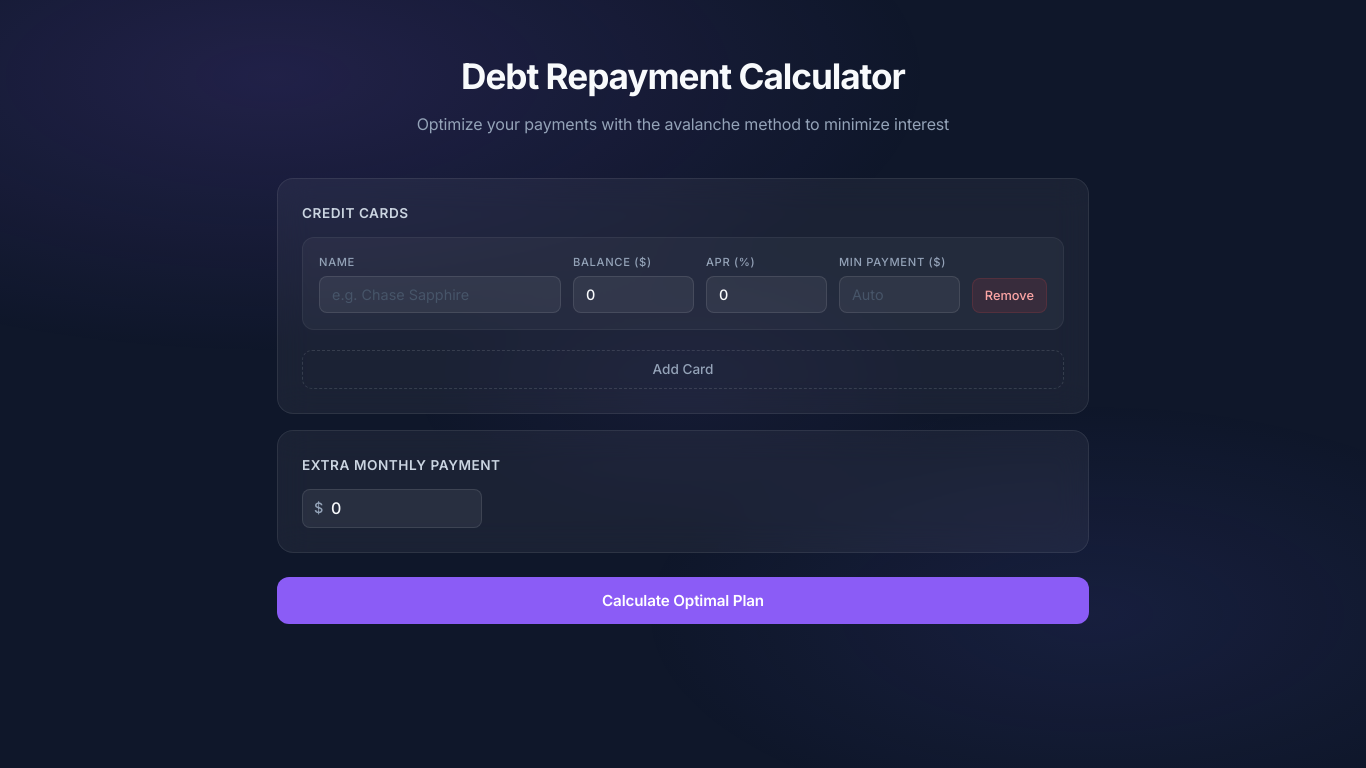
Test: App › shows validation error when no cards have balance
Click the button "Calculate Optimal Plan" at coordinates (683, 601), box [277,577,1089,624]
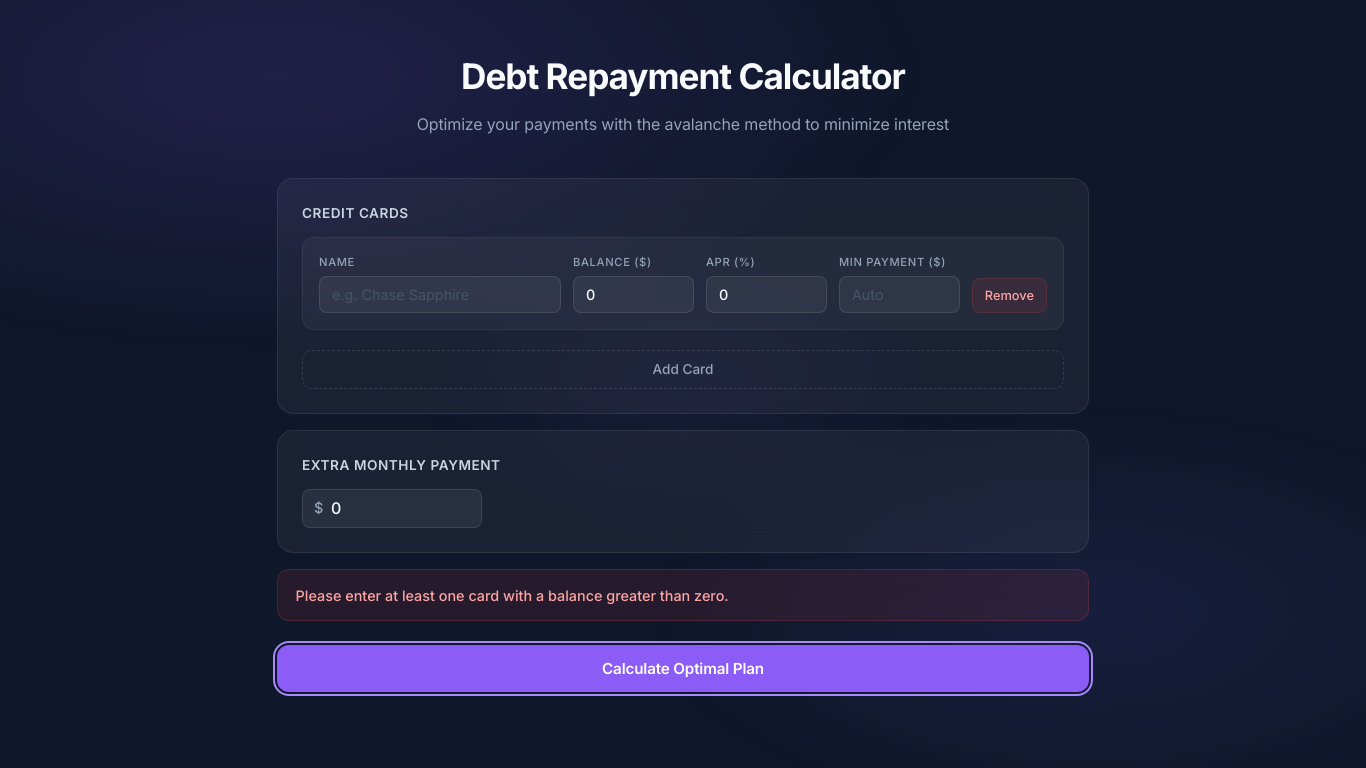
Expected: the text "at least one card with a balance" is shown, [296,587,729,604]
